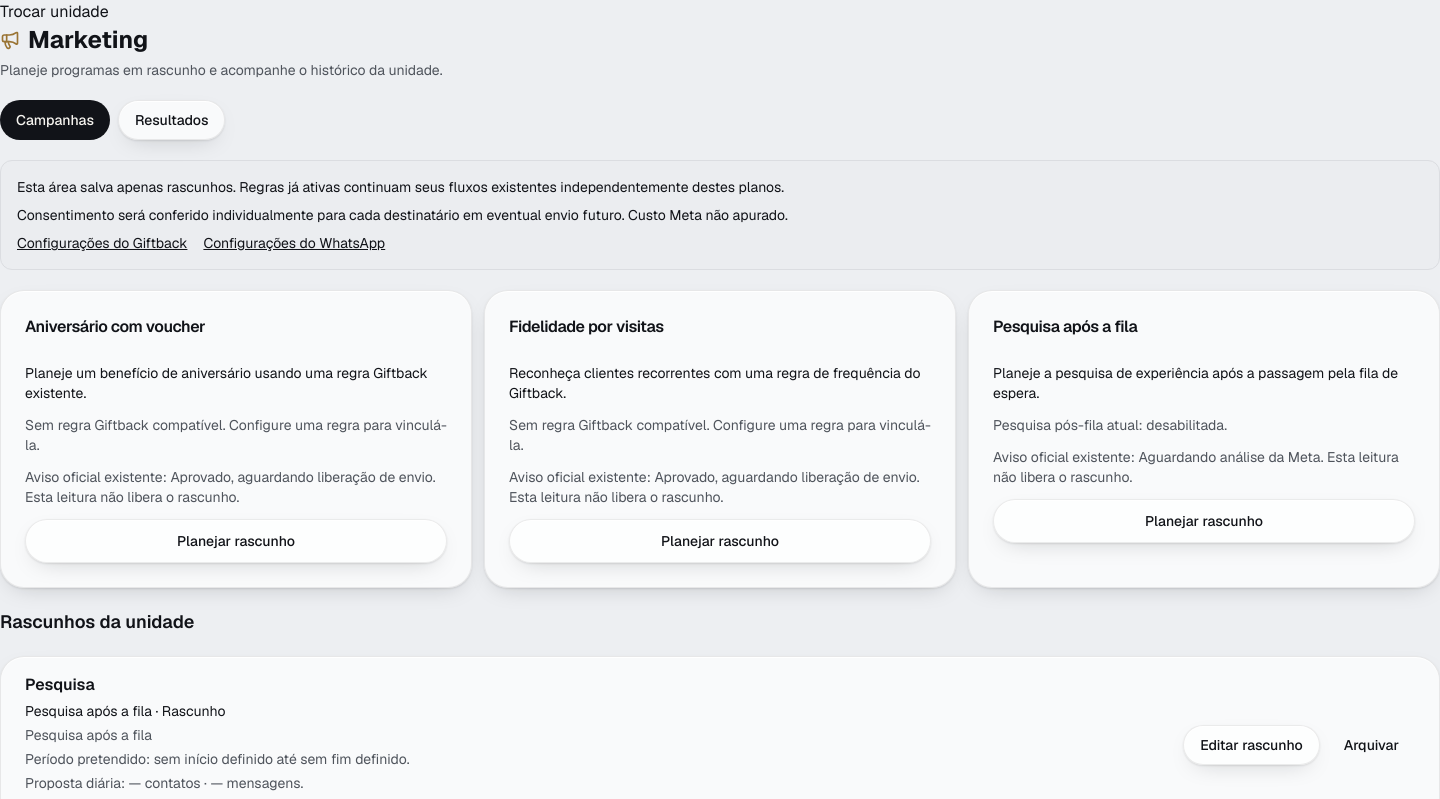
it: Marketing › fecha edição com revisão vencida após recarregar a lista
The width and height of the screenshot is (1440, 799).
Click the button "Editar rascunho": (1251, 745) x1=1183 y1=725 x2=1320 y2=765
(page scrolled)
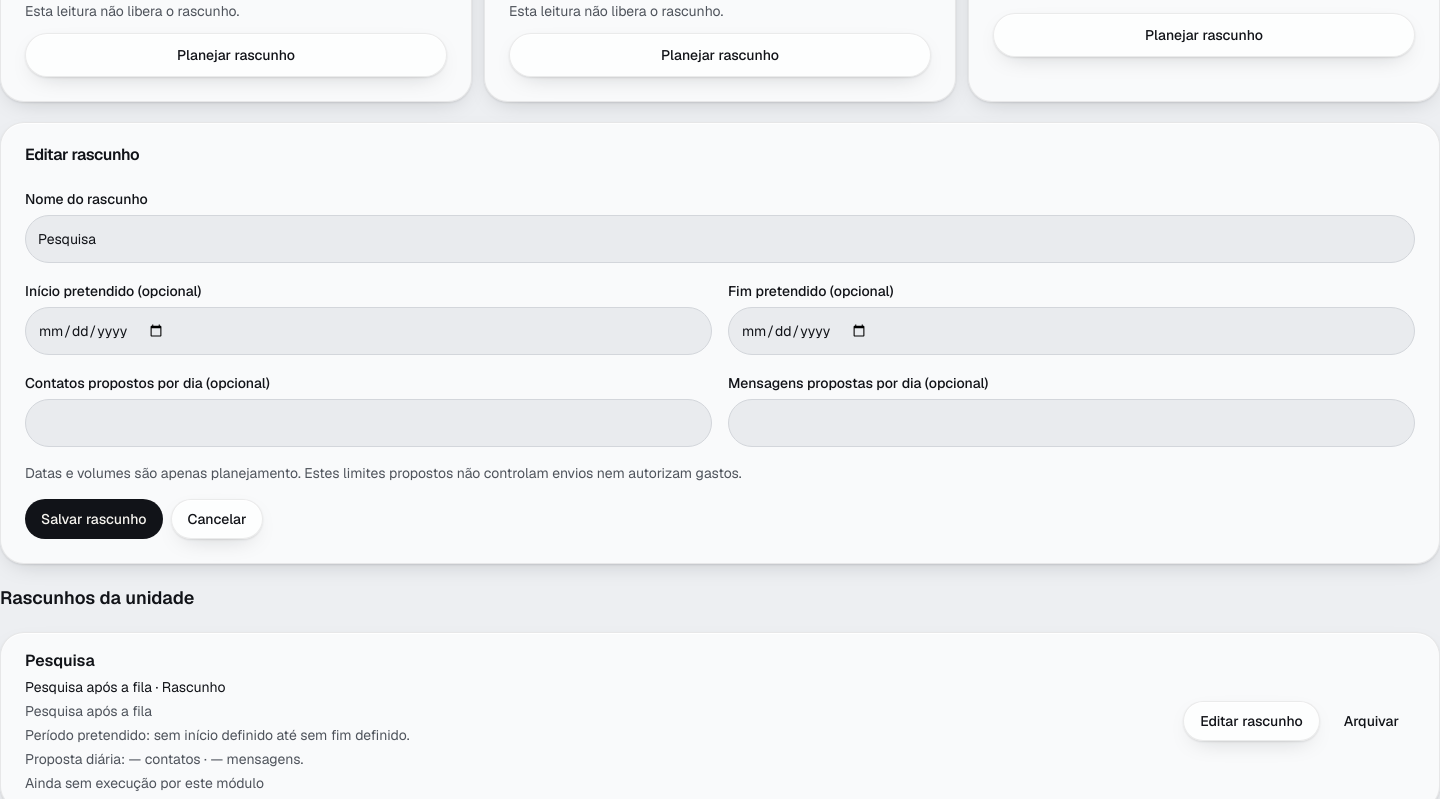
Click the button "Salvar rascunho": (94, 519) x1=25 y1=499 x2=162 y2=539
(page scrolled)
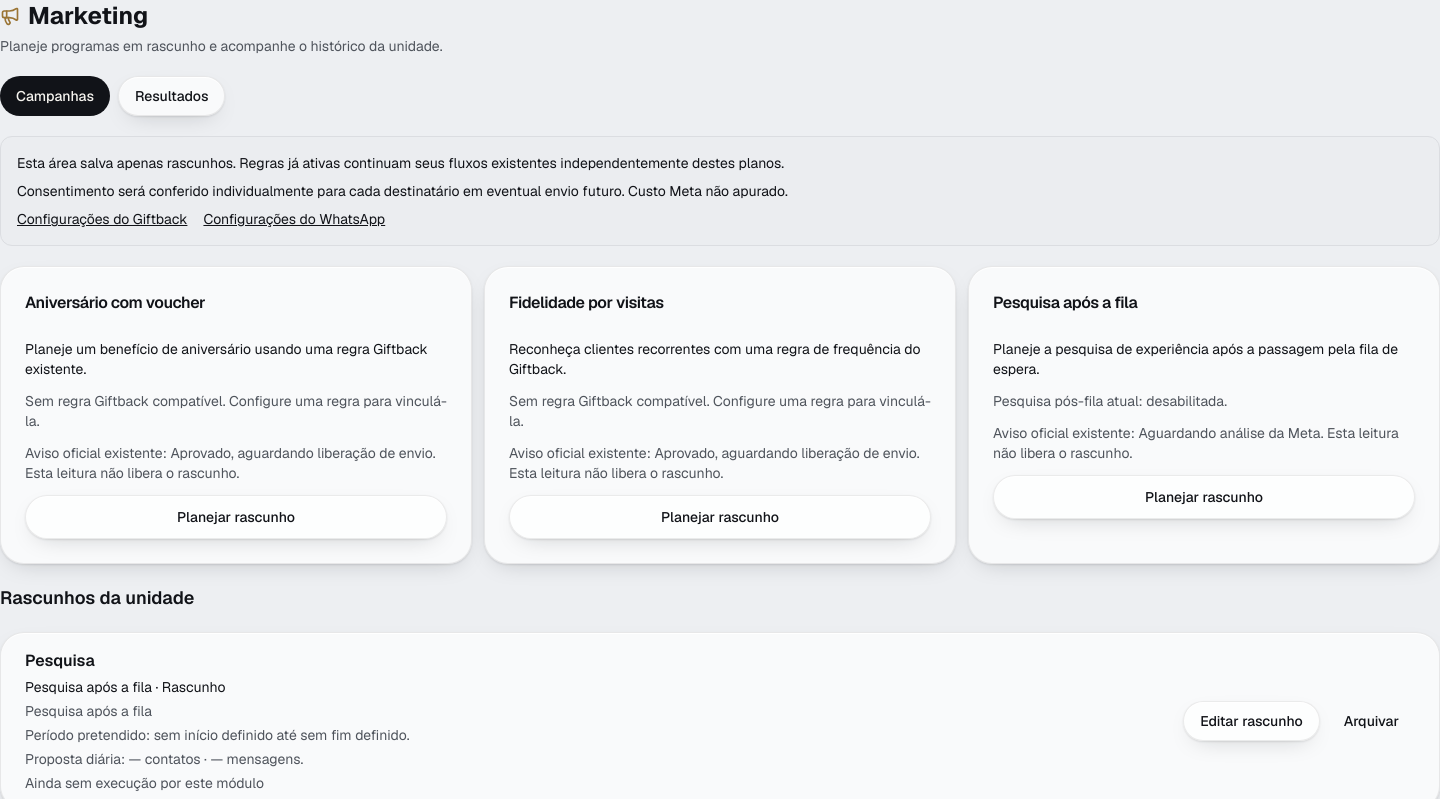
Now the label labelled "Nome do rascunho" is gone
